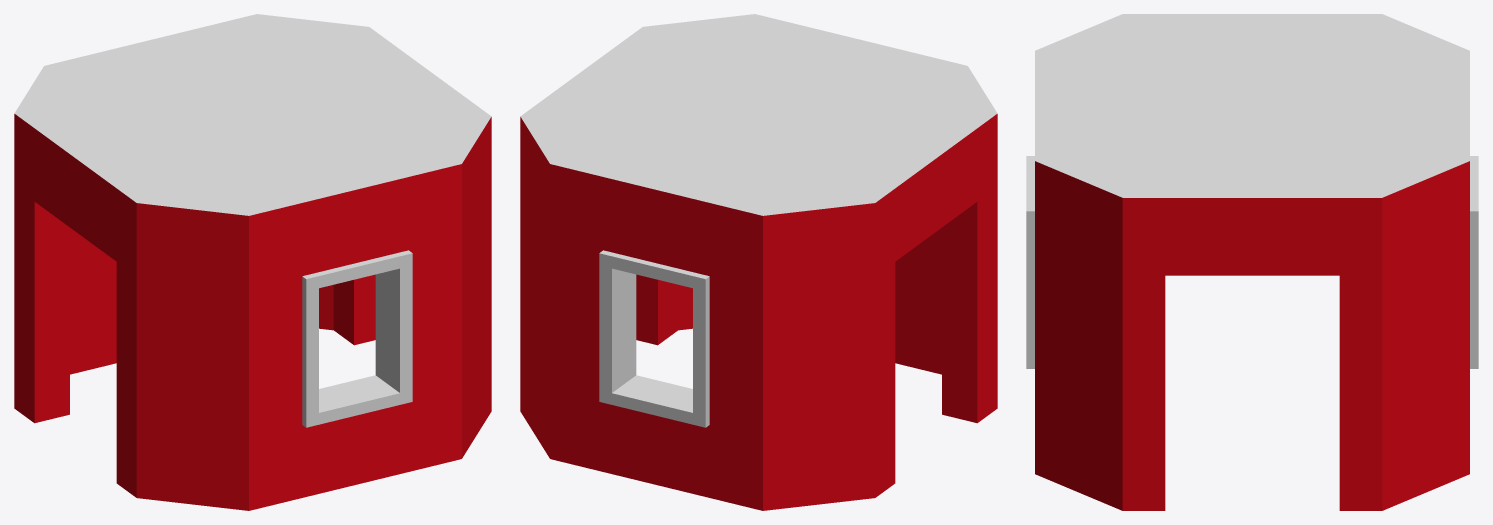
File: arch_hut.glb
3 views of the same model, side by side, from view 1: azimuth 30°, elevation 25°; view 2: azimuth 150°, elevation 25°; view 3: azimuth 270°, elevation 25° (orthographic). The views are drawn at different scales.
Visible parts, largest first — view 1: Cube; view 2: Cube; view 3: Cube.
Part boxes in pixels (box(x1,y1,x2,y2)): Cube: box(14, 14, 491, 510); Cube: box(520, 14, 997, 510); Cube: box(1026, 14, 1478, 510).
Size of the model in its own units: 5 by 3.97 by 5.2.
